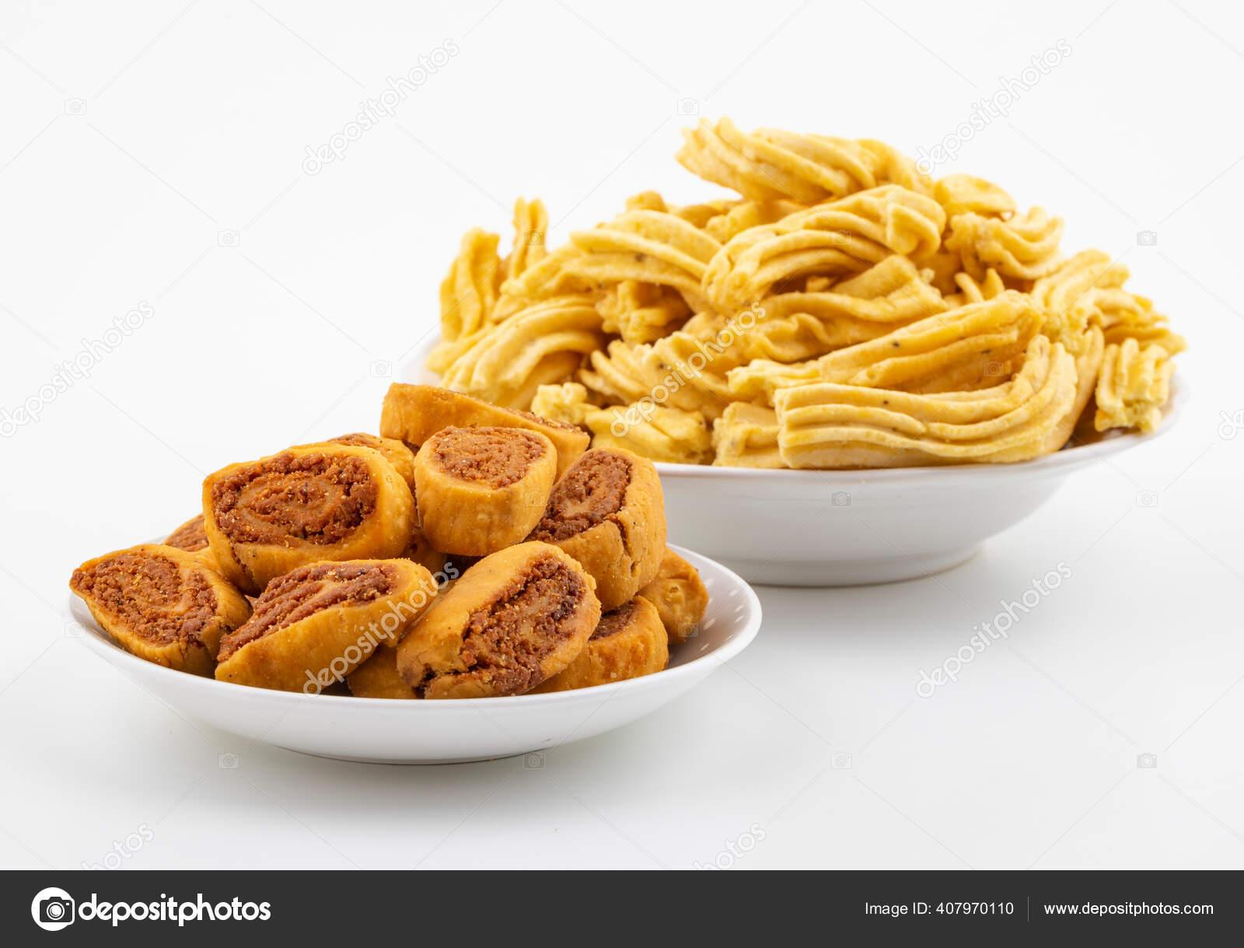bhakarwadi: (72, 416, 613, 704)
